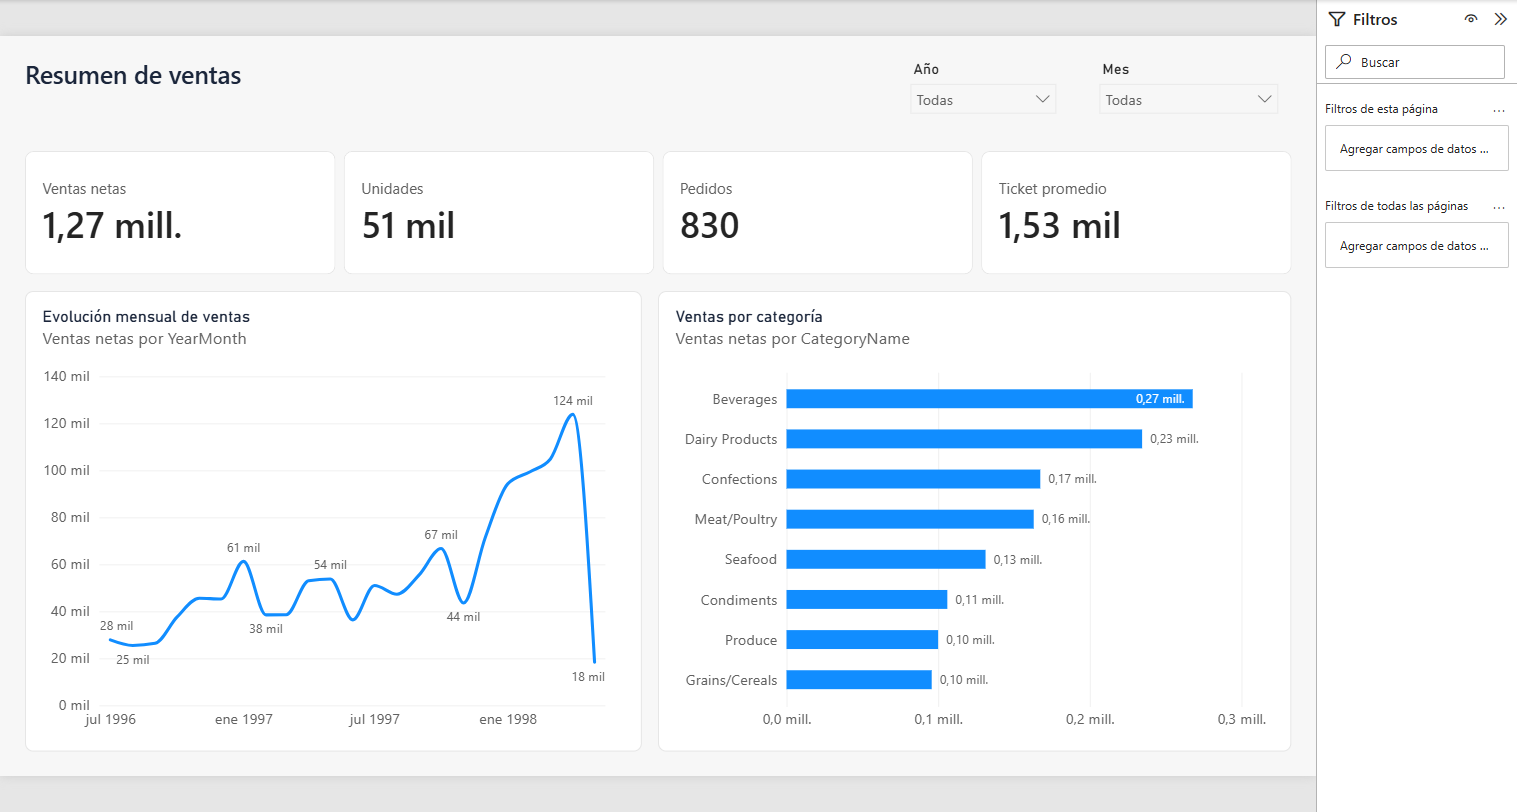

Layout of this report page (visuals, bound fields, positions):
{"tool":"powerbi","page":{"name":"Resumen de ventas","canvas":[1280,720],"ordinal":1},"visuals":[{"type":"textbox","box":[24,20,560,52],"z":1},{"type":"slicer","fields":{"Values":["Date.CalendarYear"]},"box":[872,16,168,80],"z":2},{"type":"slicer","fields":{"Values":["Date.MonthName"]},"box":[1056,16,200,80],"z":3},{"type":"cardVisual","fields":{"Data":["FactSales.Ventas netas","FactSales.Unidades","FactSales.Pedidos","FactSales.Ticket promedio"]},"box":[24,112,1232,120],"z":4},{"type":"lineChart","title":"Evolución mensual de ventas","fields":{"Category":["Date.YearMonth"],"Y":["FactSales.Ventas netas"]},"box":[24,248,600,448],"z":5},{"type":"barChart","title":"Ventas por categoría","fields":{"Category":["Product.CategoryName"],"Y":["FactSales.Ventas netas"]},"box":[640,248,616,448],"z":6}]}

Visuals, with their boxes on the page's 1280x720 design canvas (x1, y1, x2, y2). These are canvas units, not pixel positions in the 1517x812 screenshot, which may show the page scaled, cropped or inside an application window:
textbox: <box>24,20,584,72</box>
slicer - Date.CalendarYear: <box>872,16,1040,96</box>
slicer - Date.MonthName: <box>1056,16,1256,96</box>
cardVisual - FactSales.Ventas netas x FactSales.Unidades: <box>24,112,1256,232</box>
"Evolución mensual de ventas" lineChart: <box>24,248,624,696</box>
"Ventas por categoría" barChart: <box>640,248,1256,696</box>
